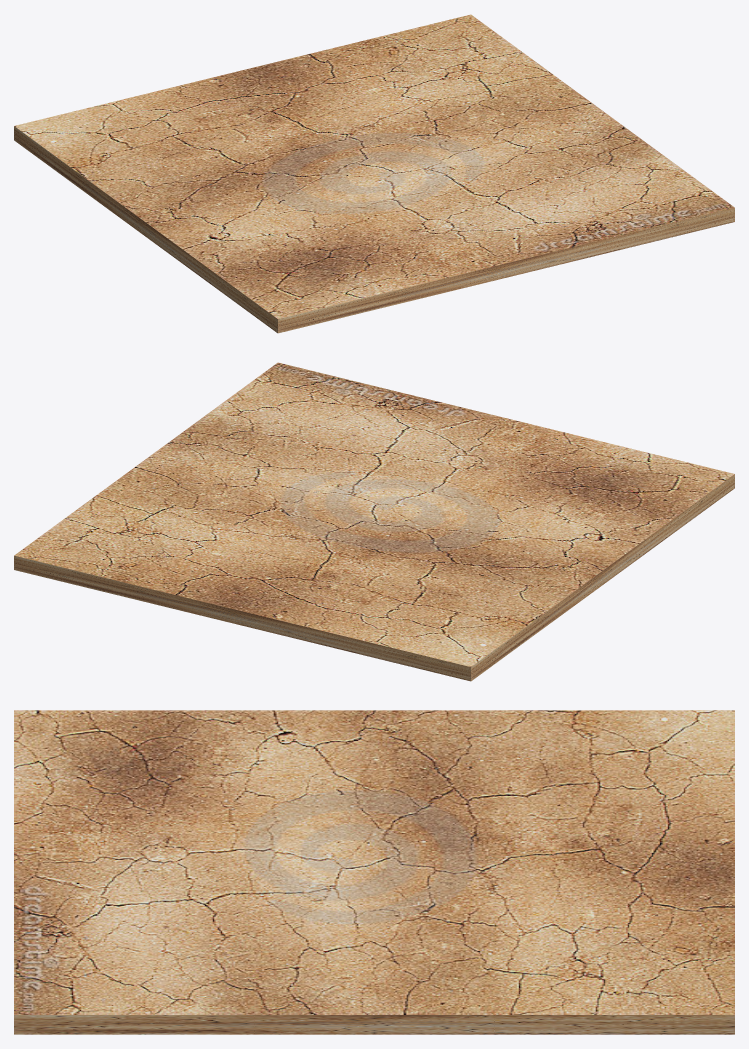
File: SueloMax.DAE
The picture shows the model from 3 angles, top to bottom: view 1: azimuth 30°, elevation 25°; view 2: azimuth 150°, elevation 25°; view 3: azimuth 270°, elevation 25°; orthographic projection. The views are drawn at different scales.
Visible parts, largest first — view 1: Suelo; view 2: Suelo; view 3: Suelo.
Boxes of the visible parts, bbox=[...] form: Suelo: bbox=[14, 14, 734, 333]; Suelo: bbox=[14, 362, 734, 681]; Suelo: bbox=[14, 710, 734, 1034].
Bounding box in the file's own units: 100 × 3 × 100.
1 material, 1 textured.
